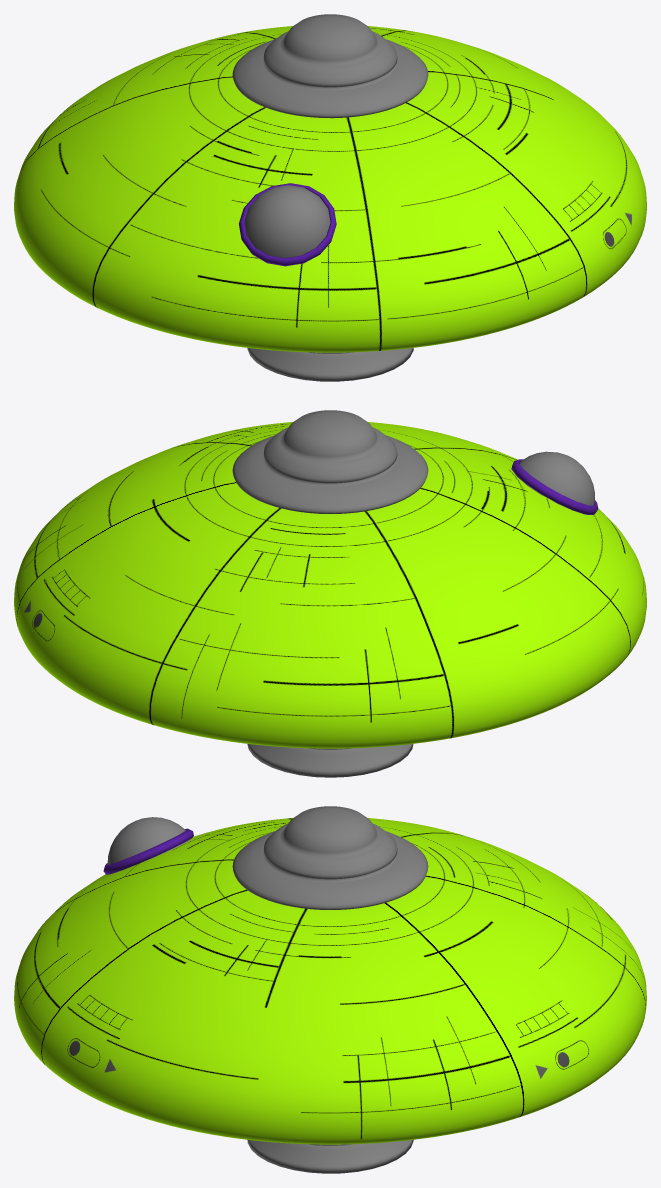
The model's file is ufo-v2.glb.
3 renders of one model, top to bottom at view 1: azimuth 30°, elevation 25°; view 2: azimuth 150°, elevation 25°; view 3: azimuth 270°, elevation 25°, orthographic.
Visible parts, largest first — view 1: lid, top, window, bottom, window_pane; view 2: lid, top, bottom, window, window_pane; view 3: lid, top, bottom, window, window_pane.
Part boxes in pixels (x1,y1,x2,y2): lid: [14, 26, 646, 352]; top: [232, 14, 428, 118]; window: [244, 185, 330, 257]; bottom: [247, 348, 413, 381]; window_pane: [239, 183, 336, 266]; lid: [14, 422, 646, 748]; top: [232, 410, 428, 513]; bottom: [247, 744, 413, 777]; window: [517, 451, 594, 513]; window_pane: [511, 459, 598, 515]; lid: [14, 818, 646, 1144]; top: [232, 806, 428, 909]; bottom: [247, 1139, 413, 1173]; window: [107, 817, 191, 864]; window_pane: [103, 828, 193, 874].
Bounding box in the file's own units: 1.21 × 0.6792 × 1.21.
Materials: 4 (1 with a texture image).
